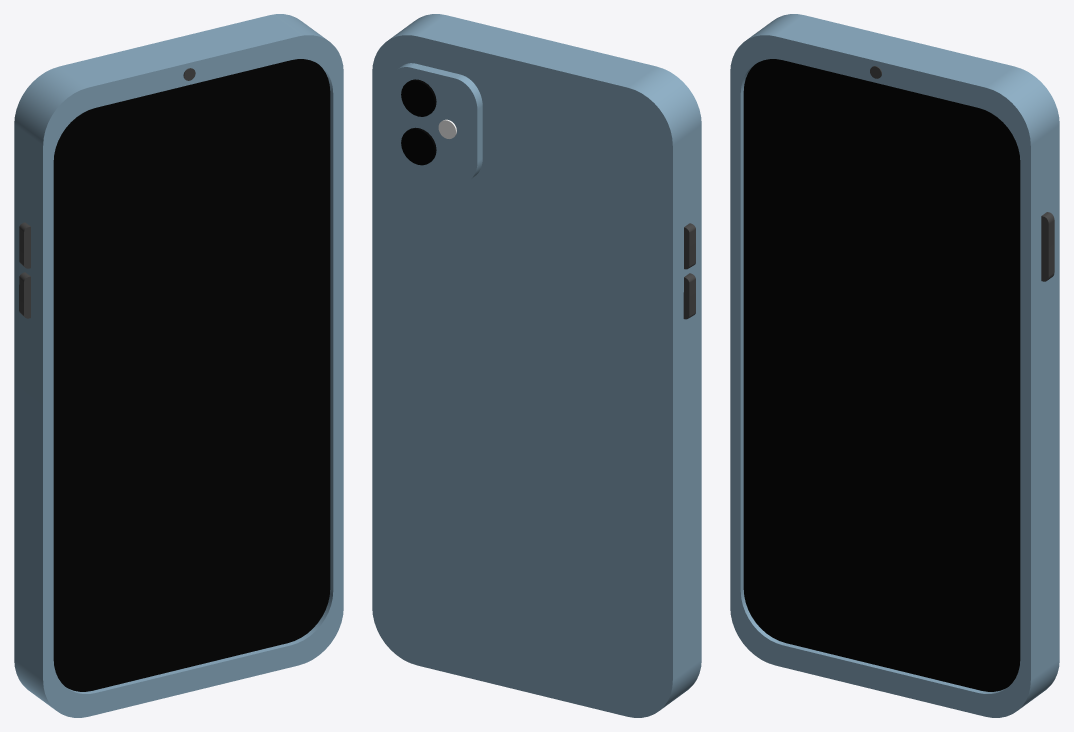
Rendered from FbxPhone.fbx.
3 renders of one model, left to right at view 1: azimuth 30°, elevation 25°; view 2: azimuth 150°, elevation 25°; view 3: azimuth 330°, elevation 25°, orthographic.
Parts seen in each view (by area): view 1: Phone_Case; view 2: Phone_Case; view 3: Phone_Case.
Part boxes in pixels (x1,y1,x2,y2): Phone_Case: (14, 14, 343, 717); Phone_Case: (372, 14, 701, 717); Phone_Case: (730, 14, 1059, 717).
Size of the model in its own units: 31.4 by 60 by 6.28.
